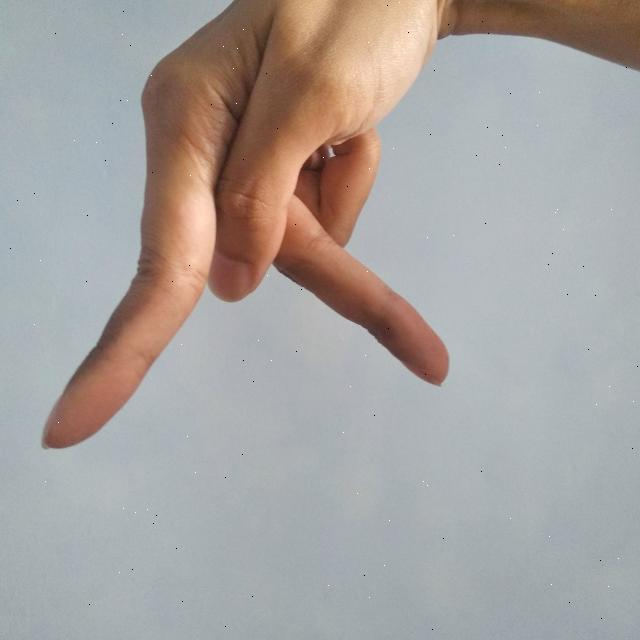P: (30, 0, 640, 461)
